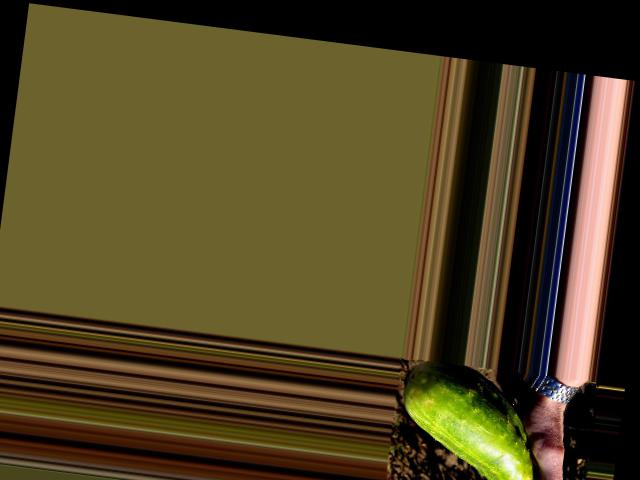cucumber: (388, 356, 565, 480)
